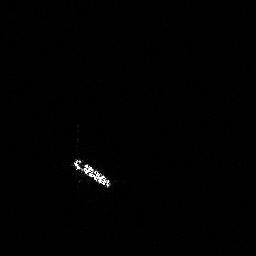ship: (68, 155, 114, 190)
